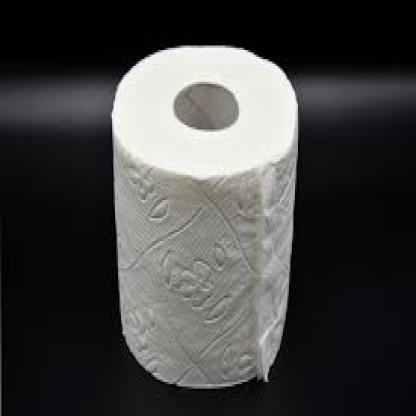tissue: (112, 36, 310, 396)
